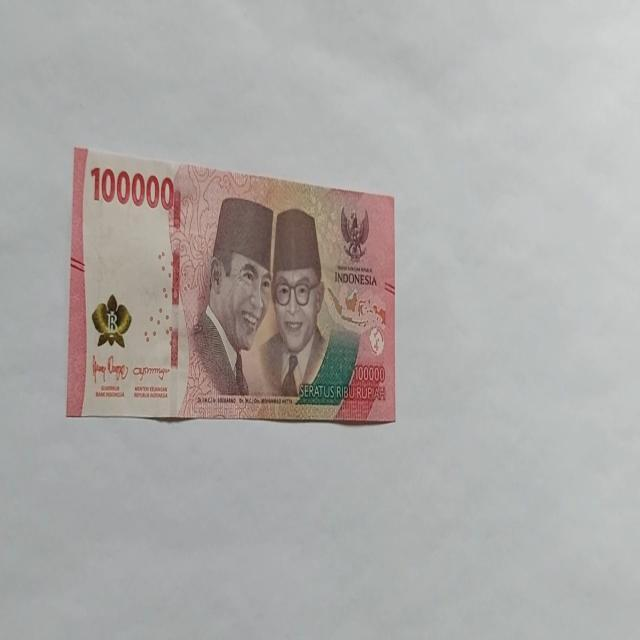seratus ribu rupiah: (66, 145, 397, 425)
